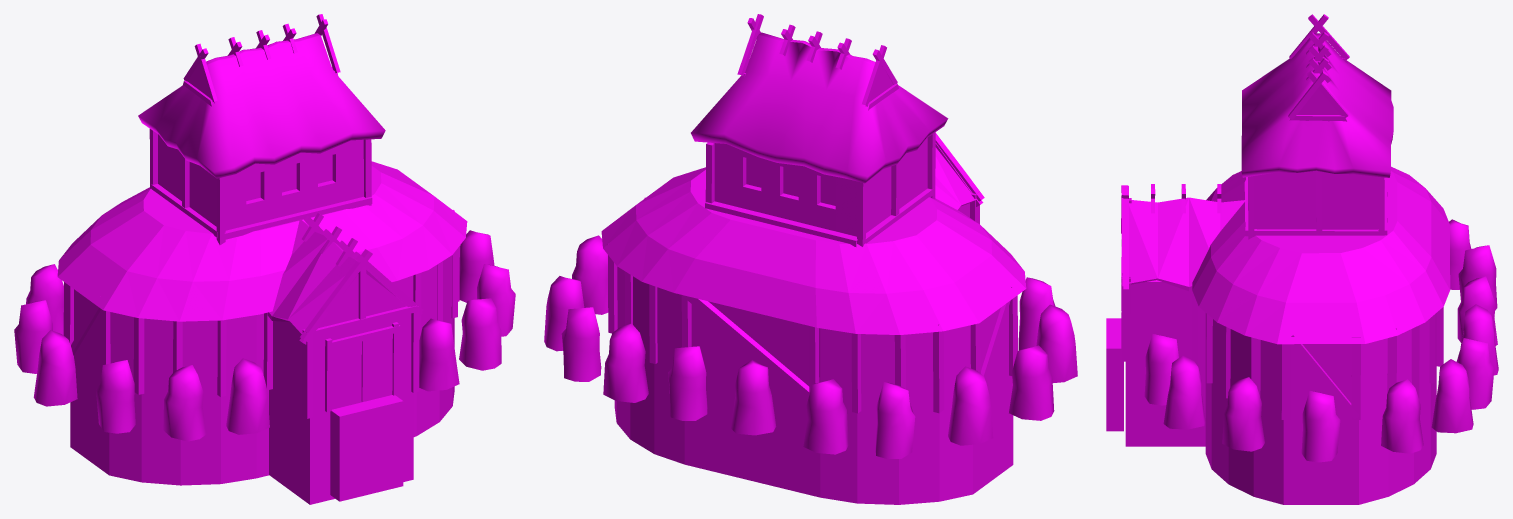
Rendered from temple_01.glb.
3 views of the same model, side by side, from view 1: azimuth 30°, elevation 25°; view 2: azimuth 150°, elevation 25°; view 3: azimuth 270°, elevation 25° (orthographic). The views are drawn at different scales.
Visible parts, largest first — view 1: Cube_604-mesh; view 2: Cube_604-mesh; view 3: Cube_604-mesh.
Boxes of the visible parts, left/top/right/bottom form: Cube_604-mesh: left=14, top=14, right=515, bottom=504; Cube_604-mesh: left=544, top=14, right=1077, bottom=504; Cube_604-mesh: left=1106, top=14, right=1498, bottom=504.
Bounding box in the file's own units: 30.19 × 24.43 × 22.93.
